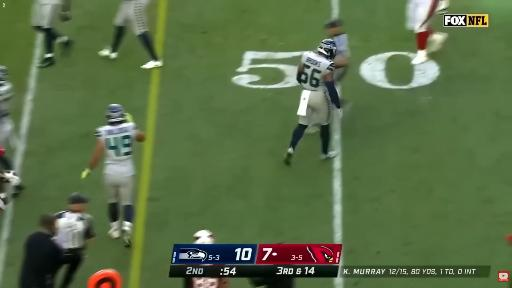Helmet: (192, 228, 217, 245), (106, 104, 125, 123), (318, 39, 336, 59)
Jersey: (95, 123, 137, 176), (301, 52, 334, 91), (0, 81, 13, 118), (333, 34, 350, 57), (184, 278, 227, 287), (37, 0, 61, 4)
Player: (82, 104, 145, 247), (284, 39, 341, 165), (99, 0, 163, 68), (32, 0, 72, 67), (407, 0, 447, 64), (324, 19, 350, 83), (0, 66, 13, 146), (0, 171, 20, 211), (184, 278, 229, 287), (0, 146, 13, 173), (194, 230, 214, 242), (437, 0, 449, 14)
